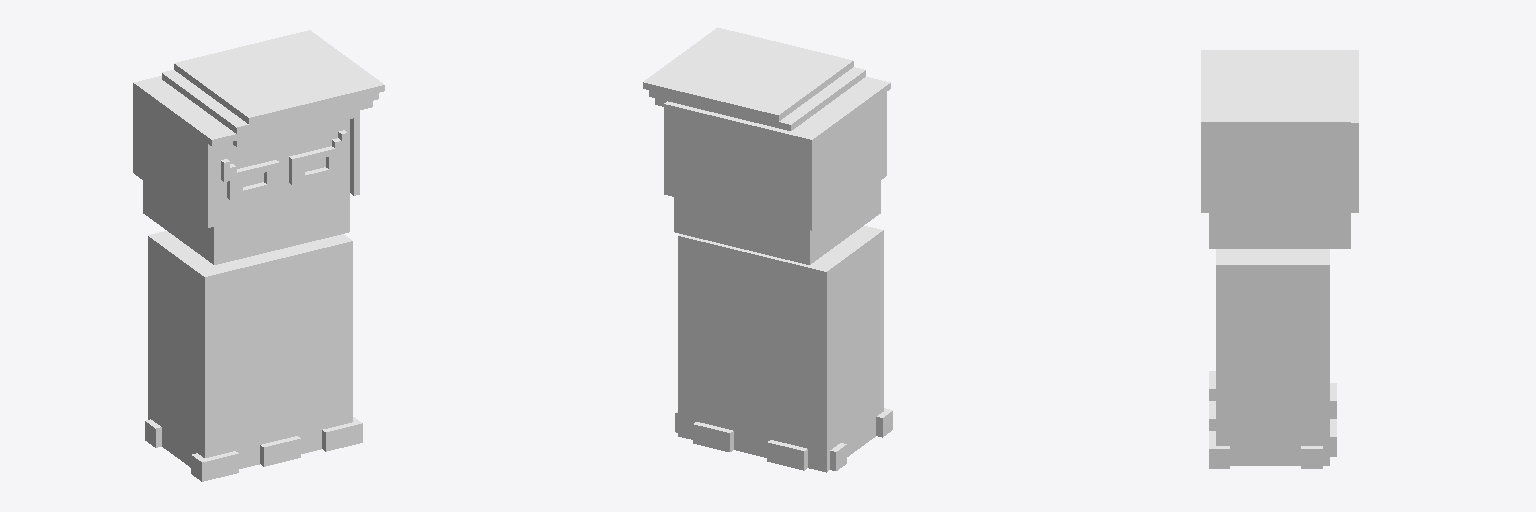
File: Jason_Cuerpo.obj
3 renders of one model, left to right at view 1: azimuth 30°, elevation 25°; view 2: azimuth 150°, elevation 25°; view 3: azimuth 270°, elevation 25°, orthographic.
Parts seen in each view (by area): view 1: Jason_Cuerpo; view 2: Jason_Cuerpo; view 3: Jason_Cuerpo.
Part boxes in pixels (x1,y1,x2,y2): Jason_Cuerpo: (133,30,384,481); Jason_Cuerpo: (643,27,892,472); Jason_Cuerpo: (1201,50,1358,468).
Size of the model in its own units: 2.9 by 5.5 by 2.2.